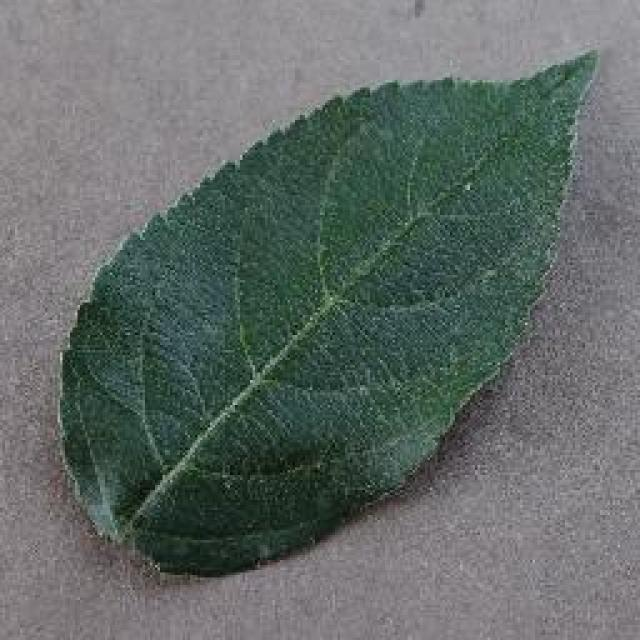apple healthy: (55, 45, 600, 577)
